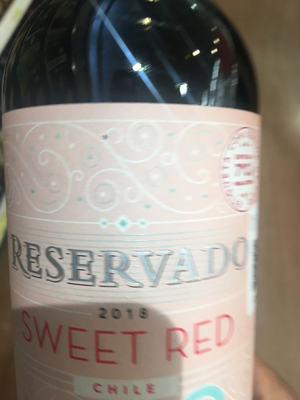reservado sweet red: (1, 7, 270, 400)
